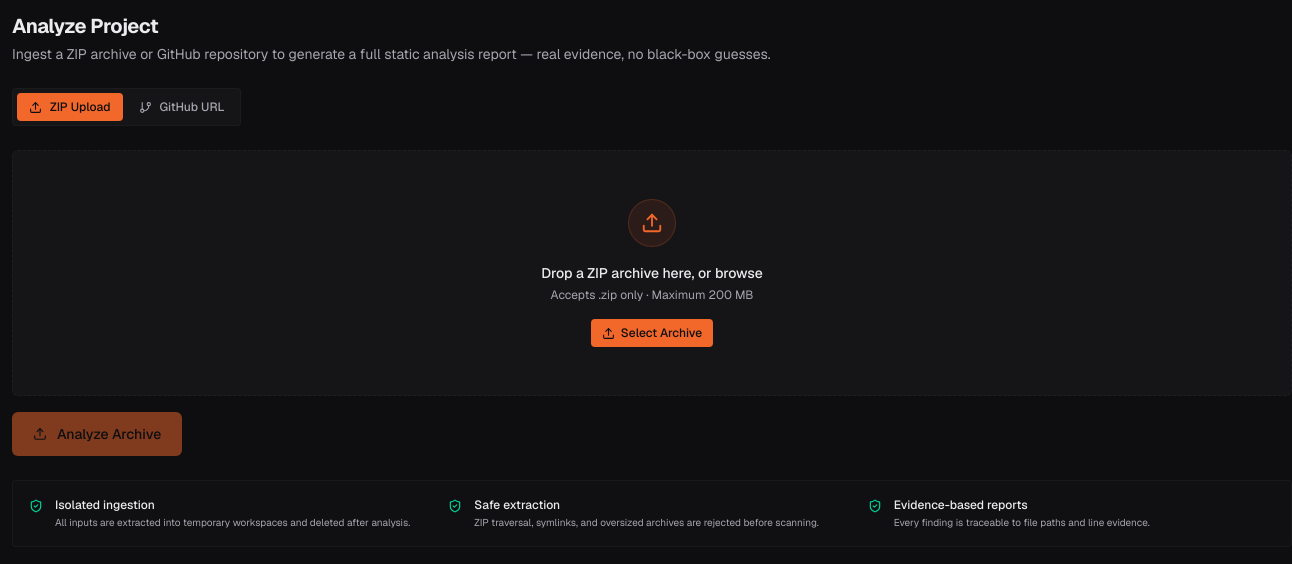
Scenario: Analyze form hardening › associates the validation error with the URL field
Click the button "GitHub URL" at (182, 107), box [127,93,236,121]
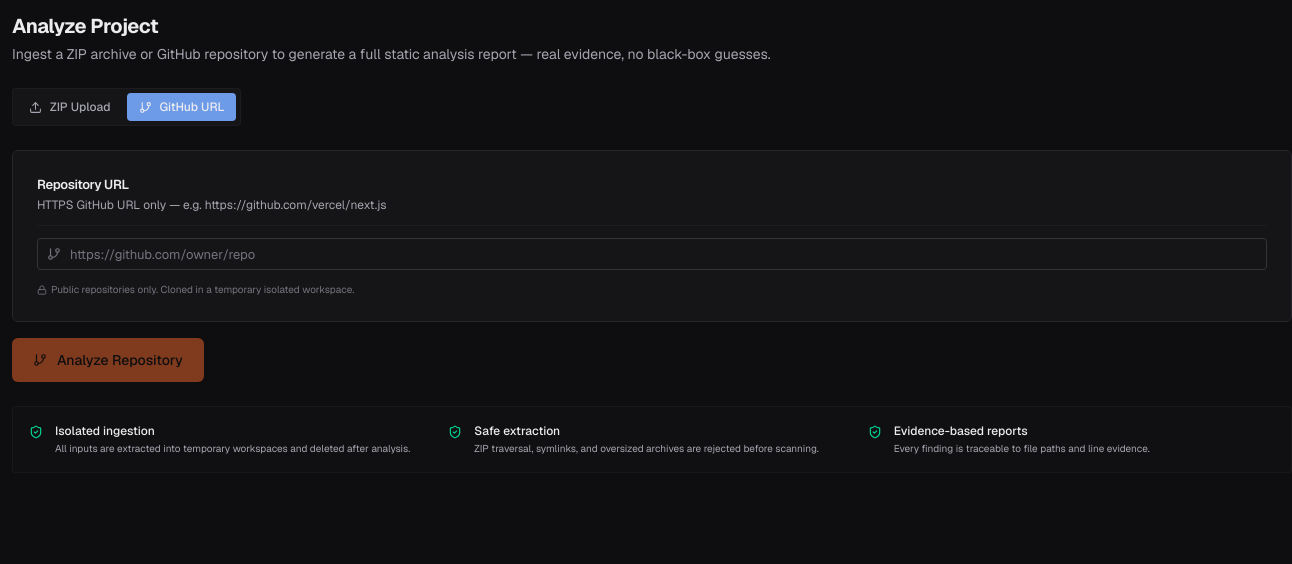
Type "nope" into the field named "Repository URL" at (652, 254), box [37,238,1267,270]
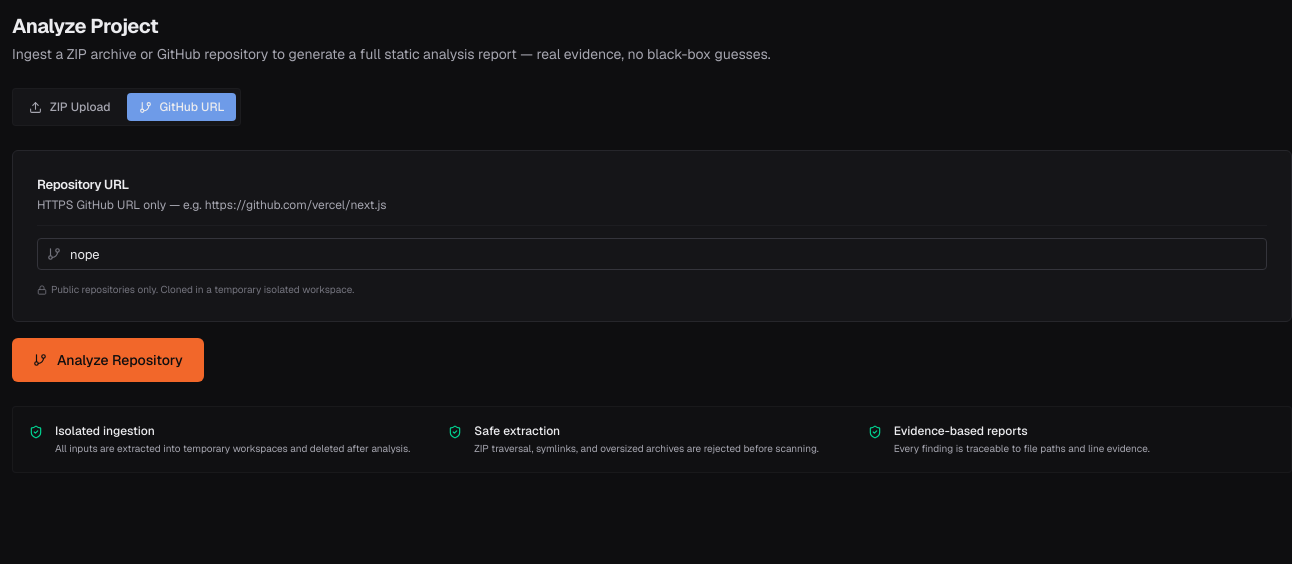
Click the button "Analyze Repository" at (108, 360), box [12,338,204,382]
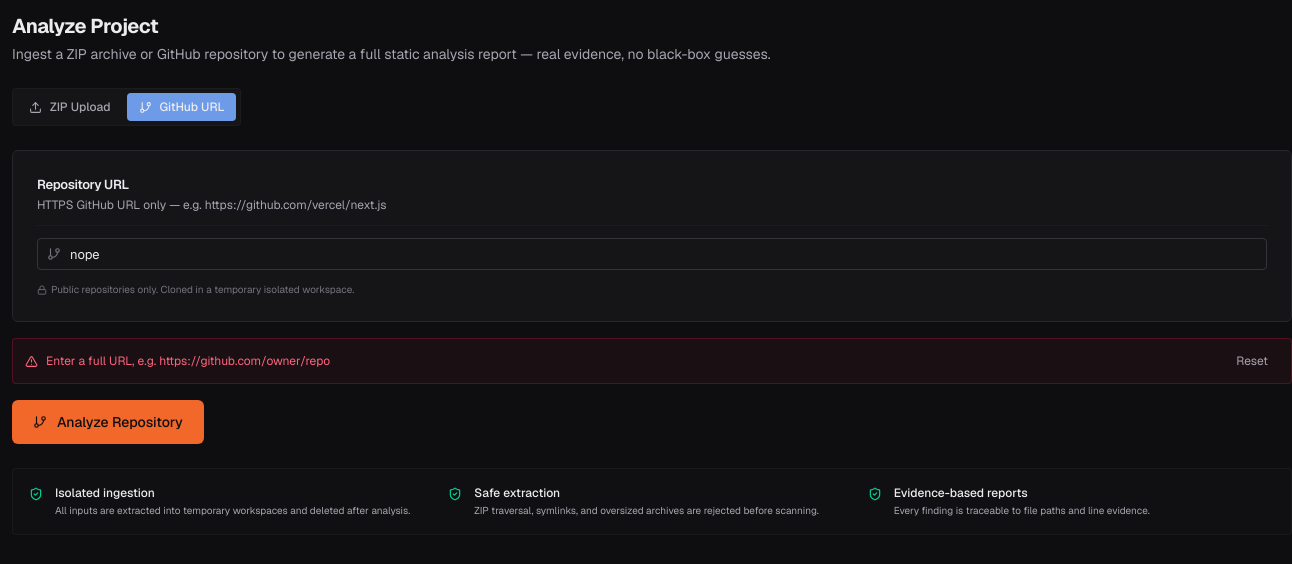
expect the message "Enter a full URL, e.g. https://github.com/owner/repo Reset" is shown: met, box [12,338,1291,384]
